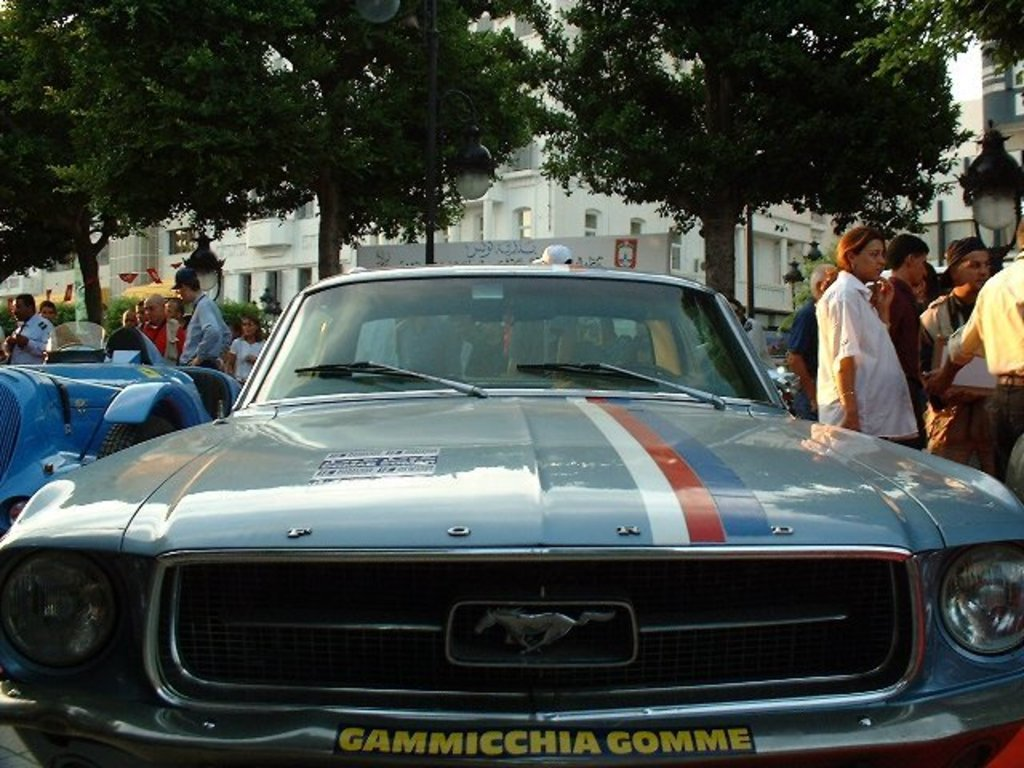Person: (781, 227, 1024, 497), (0, 258, 269, 384)
